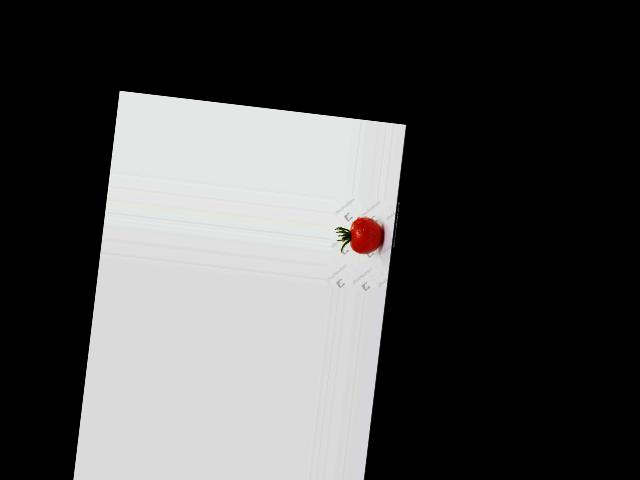tomato: (348, 216, 384, 256)
